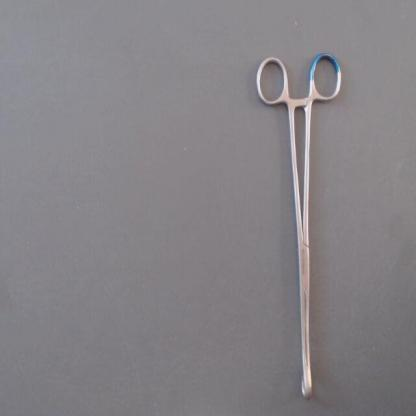Sponge Forceps: (248, 45, 348, 411)
